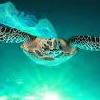Trash: (1, 3, 58, 43)
